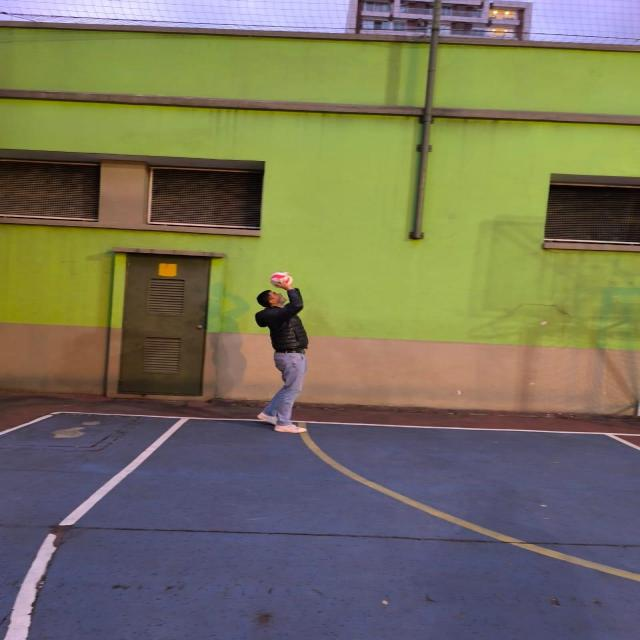volleyball: (270, 271, 294, 289)
